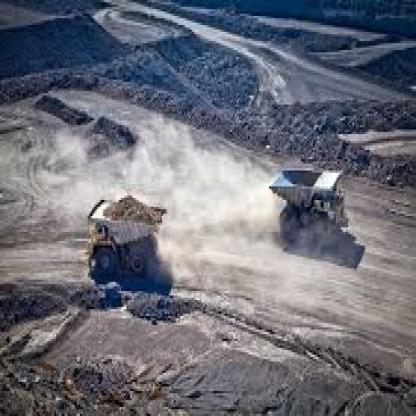dump_truck: (85, 188, 180, 298), (269, 150, 357, 250)
